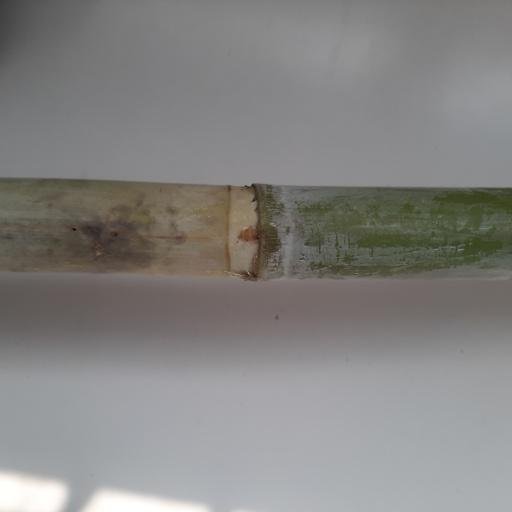Damage_Bud: (236, 227, 260, 245)
